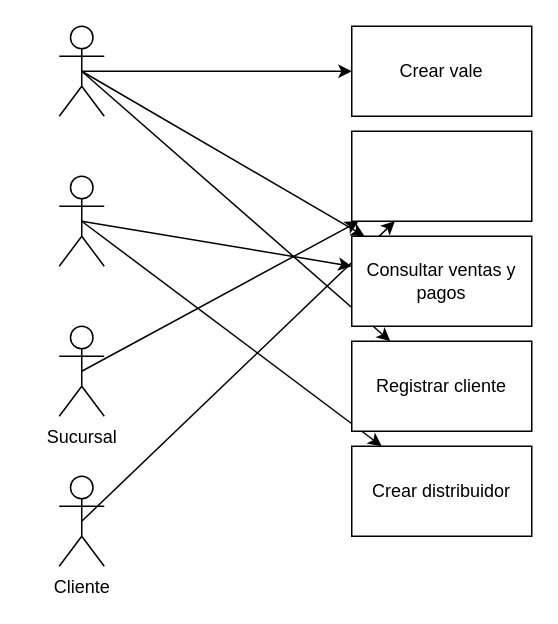
Some shapes in this 558 by 624 pixel diagram are drawn without their labels. The shapes that lost their labels are listed below. From the top down, each one's centre as x and y in pixels, then its label:
(81,70): Distribuidor
(441,175): Canjear vale
(81,220): Administrador
